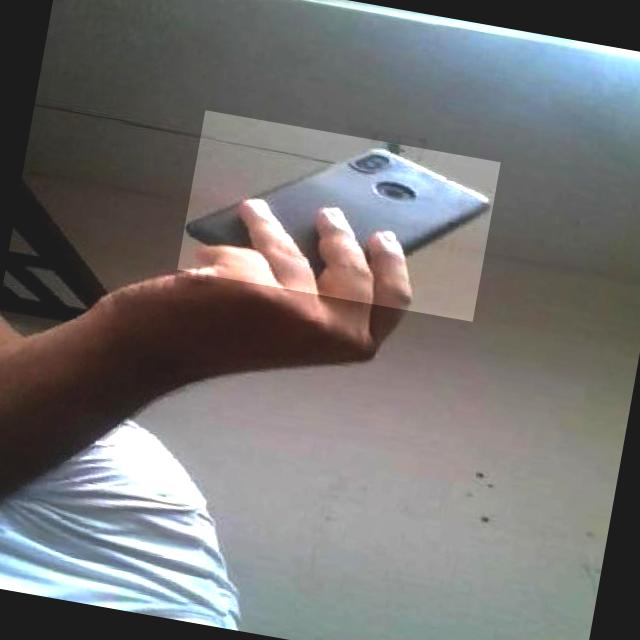lens_back: (368, 154, 384, 166)
phone: (175, 110, 499, 322)
